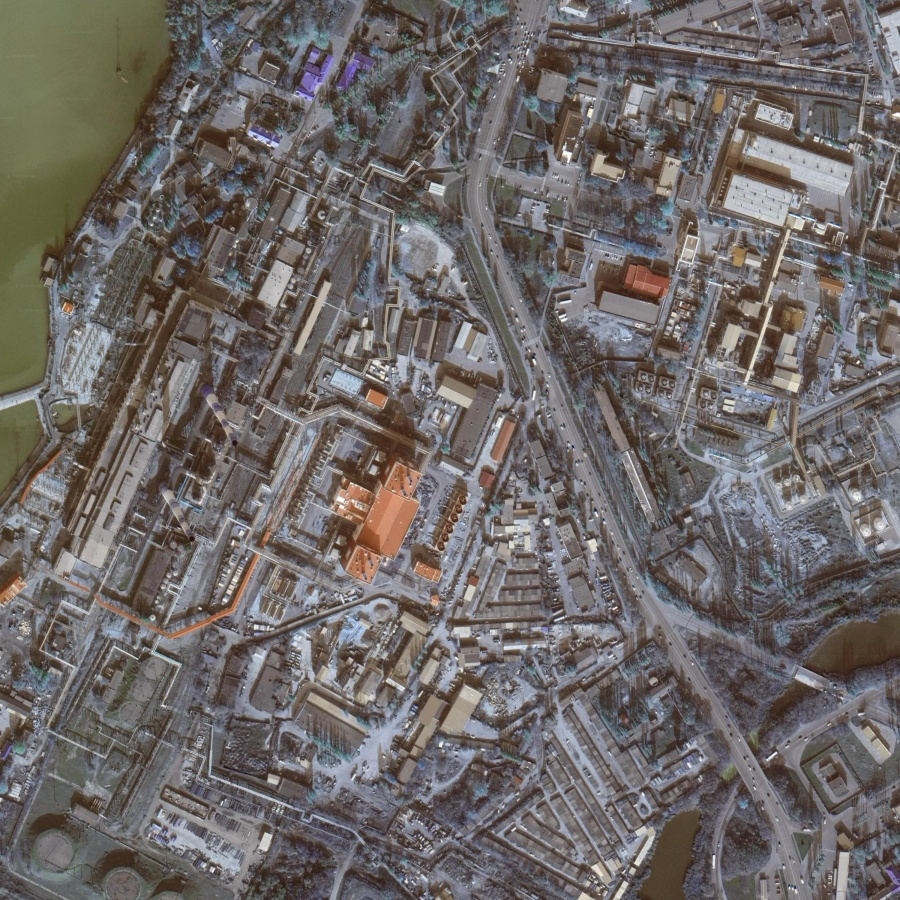PowerPlant: (26, 235, 299, 644)
